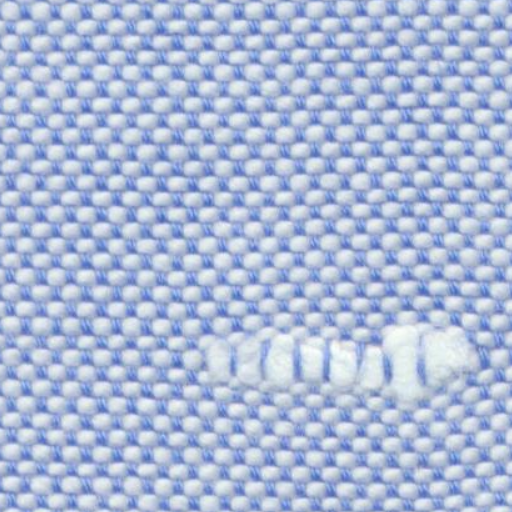DaiSha: (192, 302, 484, 427)
